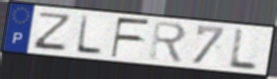7: (192, 23, 226, 66)
F: (110, 17, 152, 60)
L: (227, 28, 259, 72), (74, 13, 104, 57)
R: (148, 19, 188, 65)
Z: (31, 11, 75, 52)
